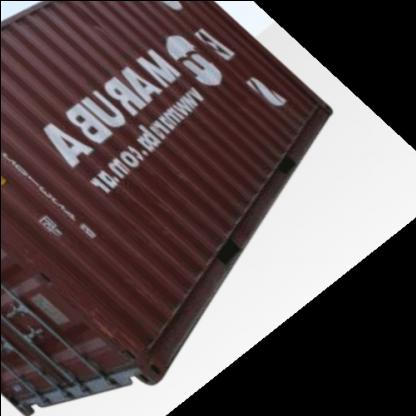Damage: (126, 144, 203, 233), (78, 4, 118, 45), (219, 80, 260, 114)
